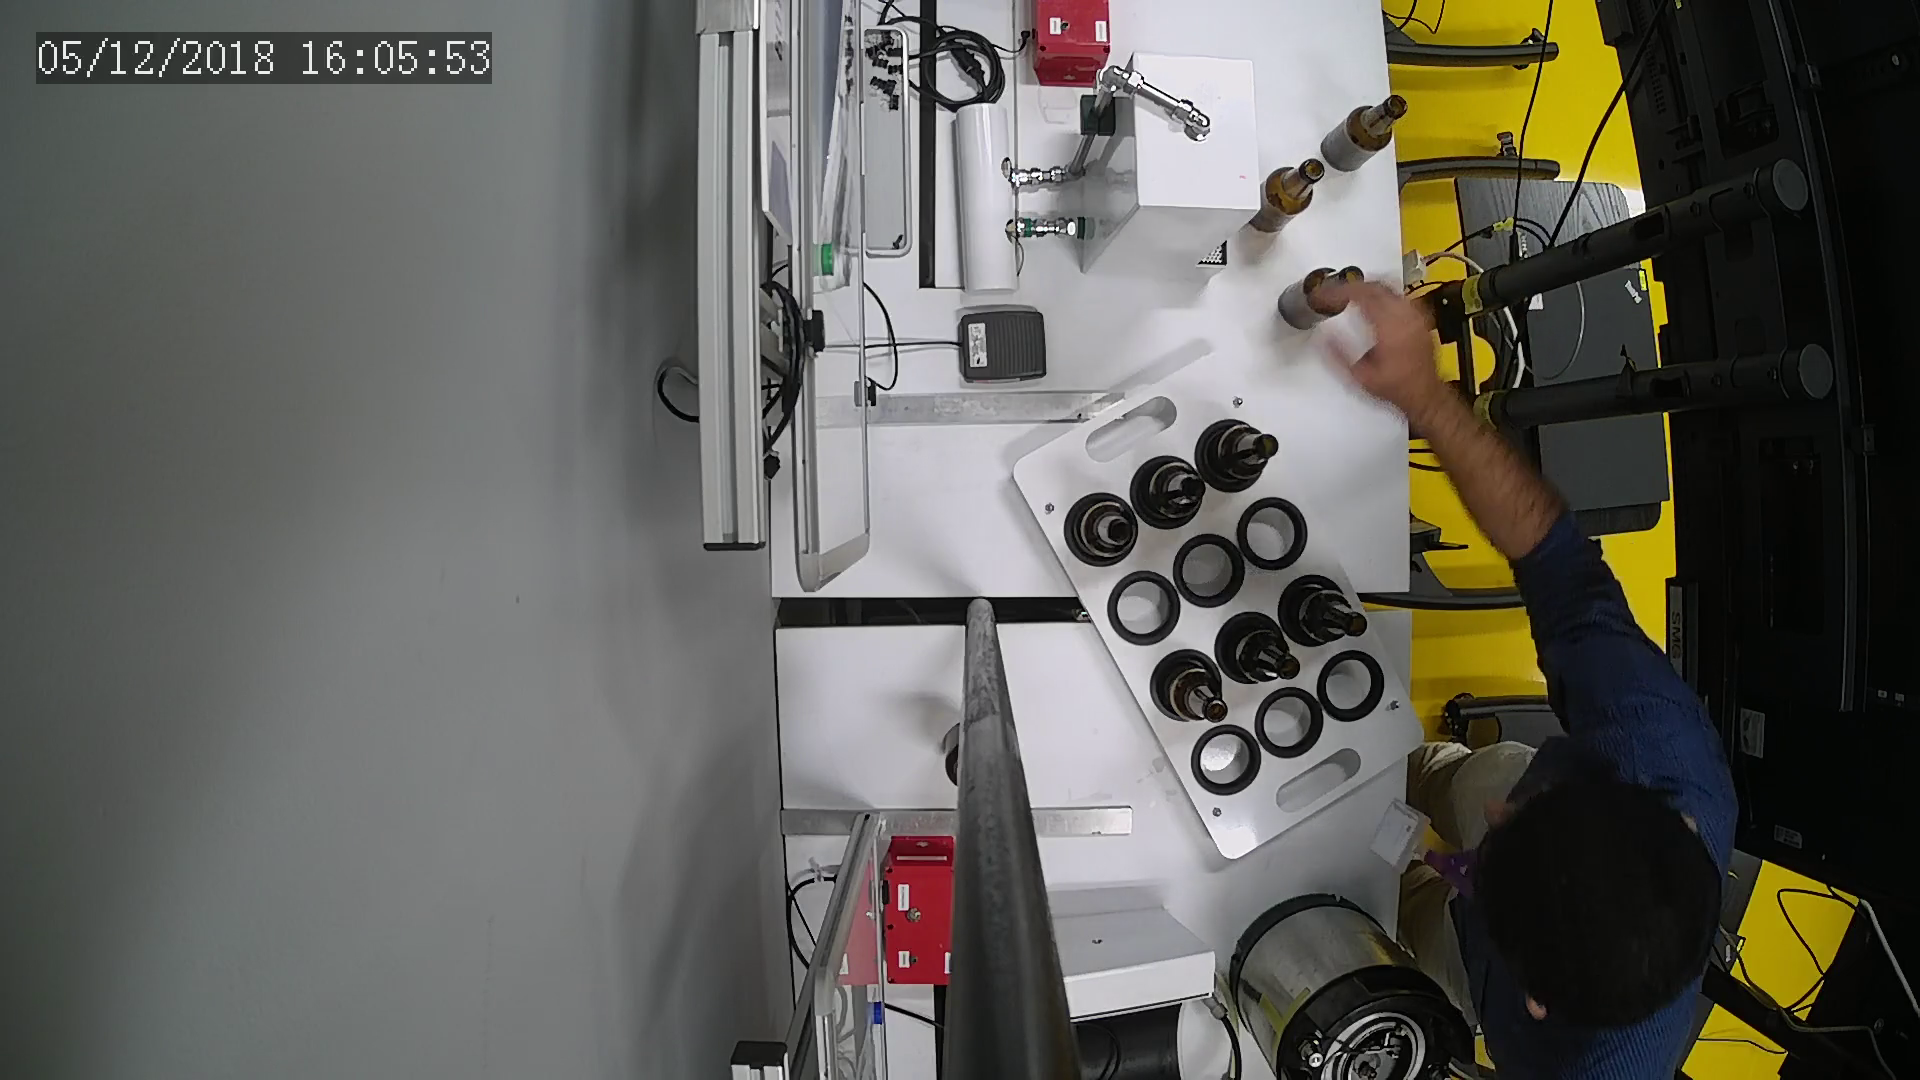filled_bottle: (1280, 578, 1371, 653), (1154, 653, 1236, 735), (1220, 615, 1304, 690), (1135, 458, 1211, 531), (1203, 419, 1280, 491), (1072, 497, 1139, 568)
trolley: (1007, 345, 1431, 858)
unfilled_bottle: (1317, 91, 1408, 174), (1276, 265, 1366, 330), (1253, 157, 1327, 233)
